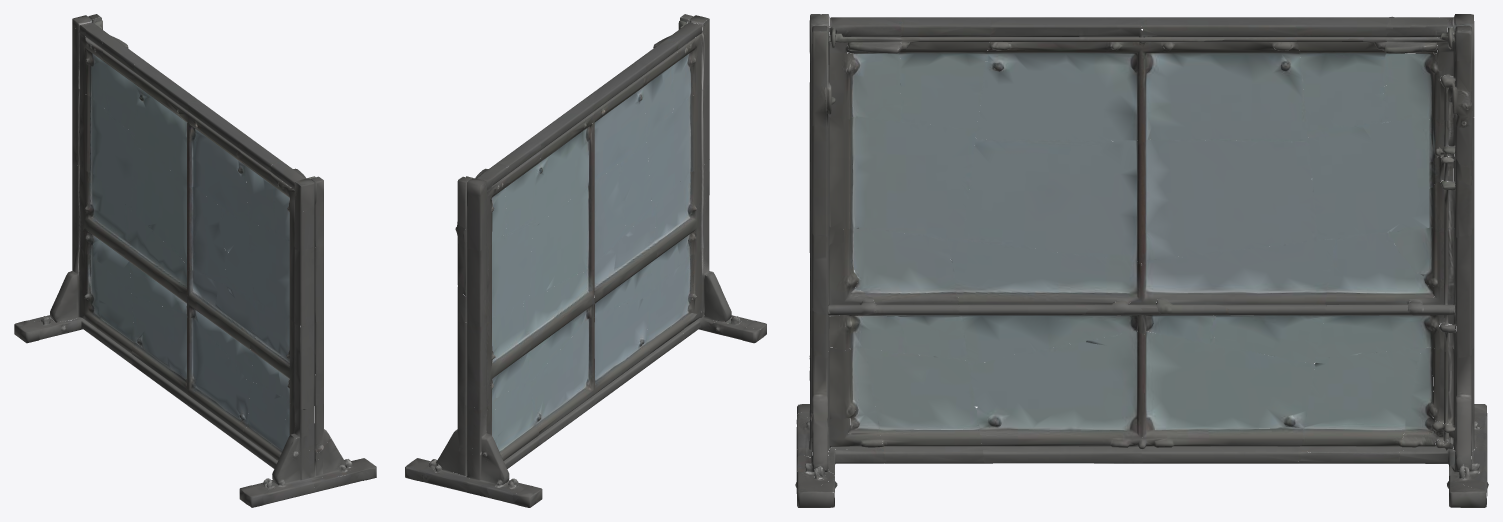
The model's file is arch_glass_barrier_LOD0.glb.
3 renders of one model, left to right at view 1: azimuth 30°, elevation 25°; view 2: azimuth 150°, elevation 25°; view 3: azimuth 270°, elevation 25°, orthographic. The views are drawn at different scales.
Visible parts, largest first — view 1: tripo_node_7fcb3078-808f-4030-9b7c-97f93c8b896c; view 2: tripo_node_7fcb3078-808f-4030-9b7c-97f93c8b896c; view 3: tripo_node_7fcb3078-808f-4030-9b7c-97f93c8b896c.
Boxes of the visible parts, x1,y1,x2,y2 form: tripo_node_7fcb3078-808f-4030-9b7c-97f93c8b896c: (14, 14, 376, 507); tripo_node_7fcb3078-808f-4030-9b7c-97f93c8b896c: (405, 14, 766, 507); tripo_node_7fcb3078-808f-4030-9b7c-97f93c8b896c: (795, 14, 1488, 507).
Bounding box in the file's own units: 0.3045 × 0.7066 × 1.
Materials: 1 (1 with a texture image).
